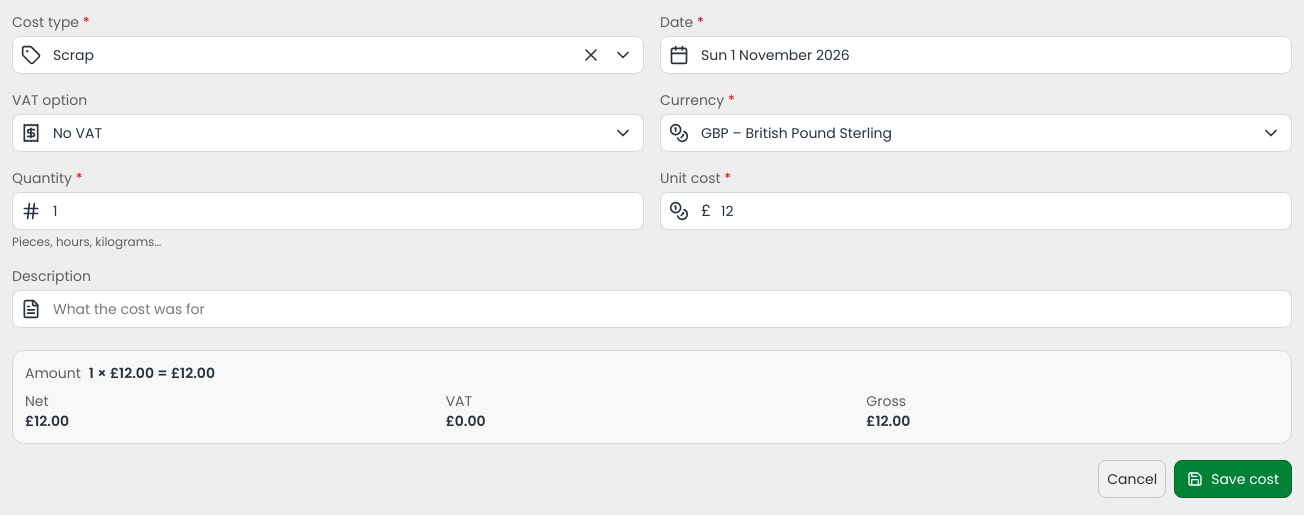
Test: CostForm quantity × unit cost › refuses a quantity of nothing
The image size is (1304, 515).
Expected: the number field labelled "Unit cost" holds "12", [701, 193, 1251, 229]
Step 1. Type "0" into the number field labelled "Quantity" → (328, 211), box [53, 193, 603, 229]
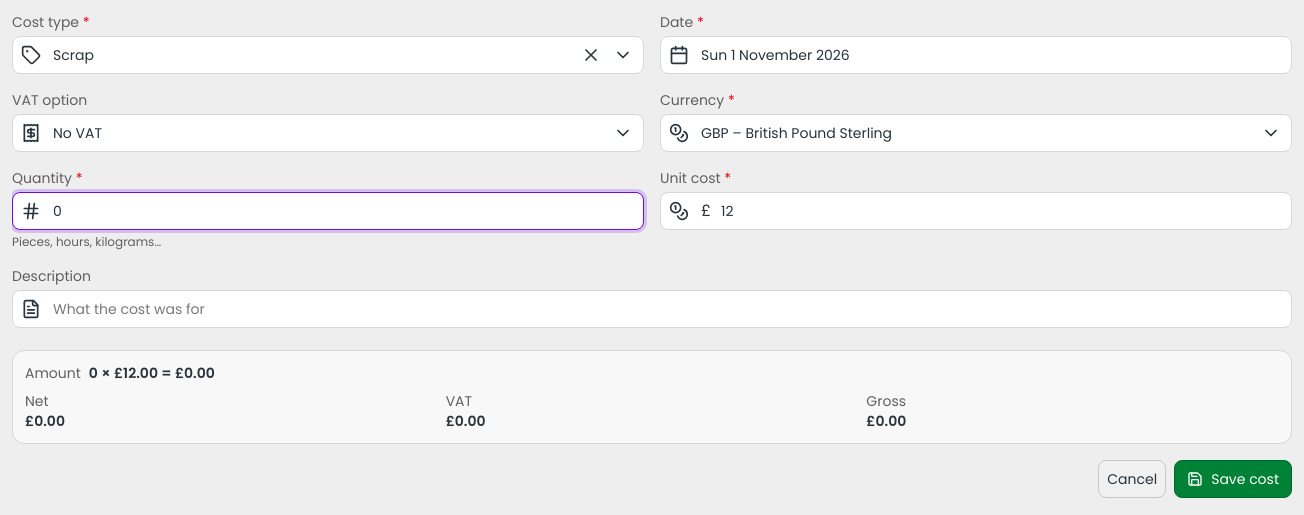
Step 2. Click the button "Save cost" → (1233, 479), box [1174, 460, 1292, 498]
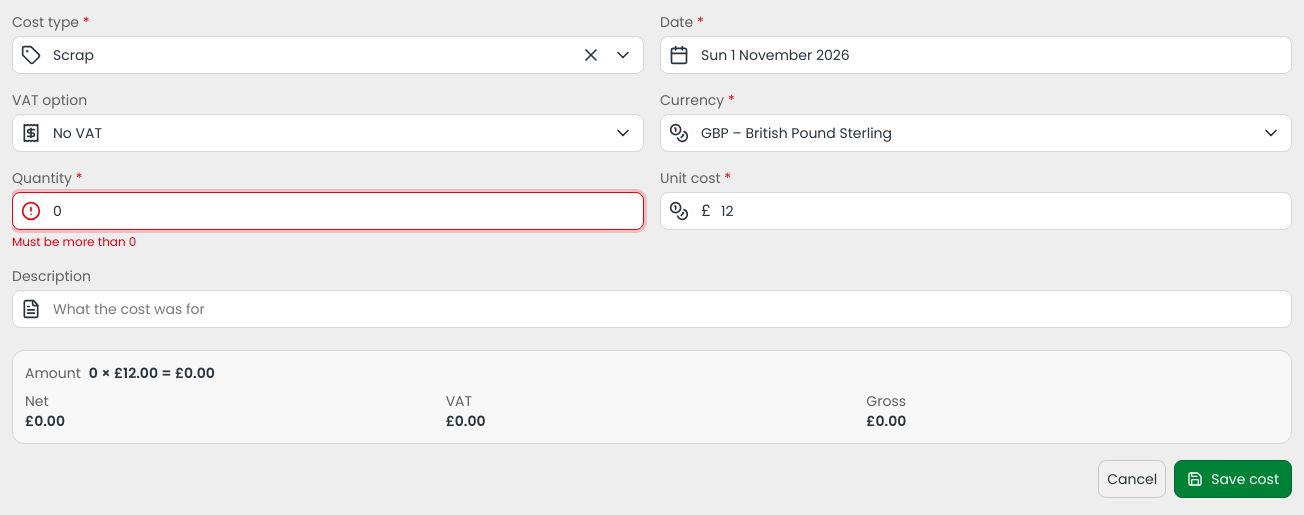
Now the text "Must be more than 0" is shown, box [12, 233, 136, 250]
